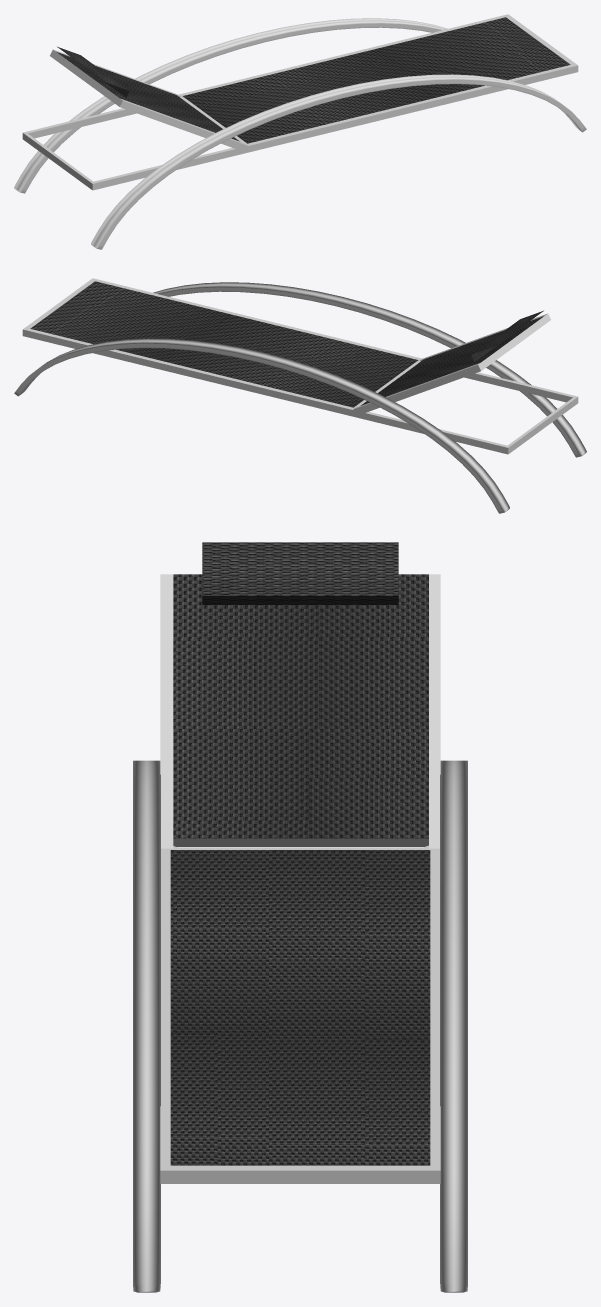
The model's file is GemmySunTable.glb.
3 renders of one model, top to bottom at view 1: azimuth 30°, elevation 25°; view 2: azimuth 150°, elevation 25°; view 3: azimuth 270°, elevation 25°, orthographic. The views are drawn at different scales.
Visible parts, largest first — view 1: Cube.001, Cylinder, Cylinder.001, Cube.002, Cube.003; view 2: Cube.001, Cylinder.001, Cylinder, Cube.002, Cube.003; view 3: Cube.001, Cube.002, Cylinder, Cylinder.001, Cube.003.
Part boxes in pixels (x1,y1,x2,y2): Cube.001: (22,14,578,190); Cylinder: (91,74,586,249); Cylinder.001: (14,18,447,193); Cube.002: (50,49,248,149); Cube.003: (57,46,129,97); Cube.001: (22,278,578,454); Cylinder.001: (14,338,509,513); Cylinder: (153,282,586,457); Cube.002: (352,313,550,416); Cube.003: (471,310,543,361); Cube.001: (160,845,440,1183); Cube.002: (160,574,440,848); Cylinder: (133,760,160,1292); Cylinder.001: (440,760,467,1292); Cube.003: (202,542,398,604).
Size of the model in its own units: 2.02 by 0.5918 by 0.5979.
Materials: 2 (1 with a texture image).
